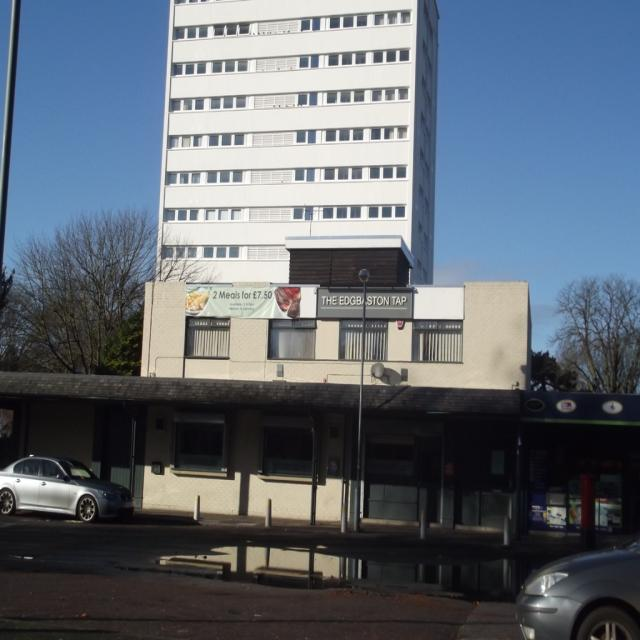car: (0, 449, 132, 533)
